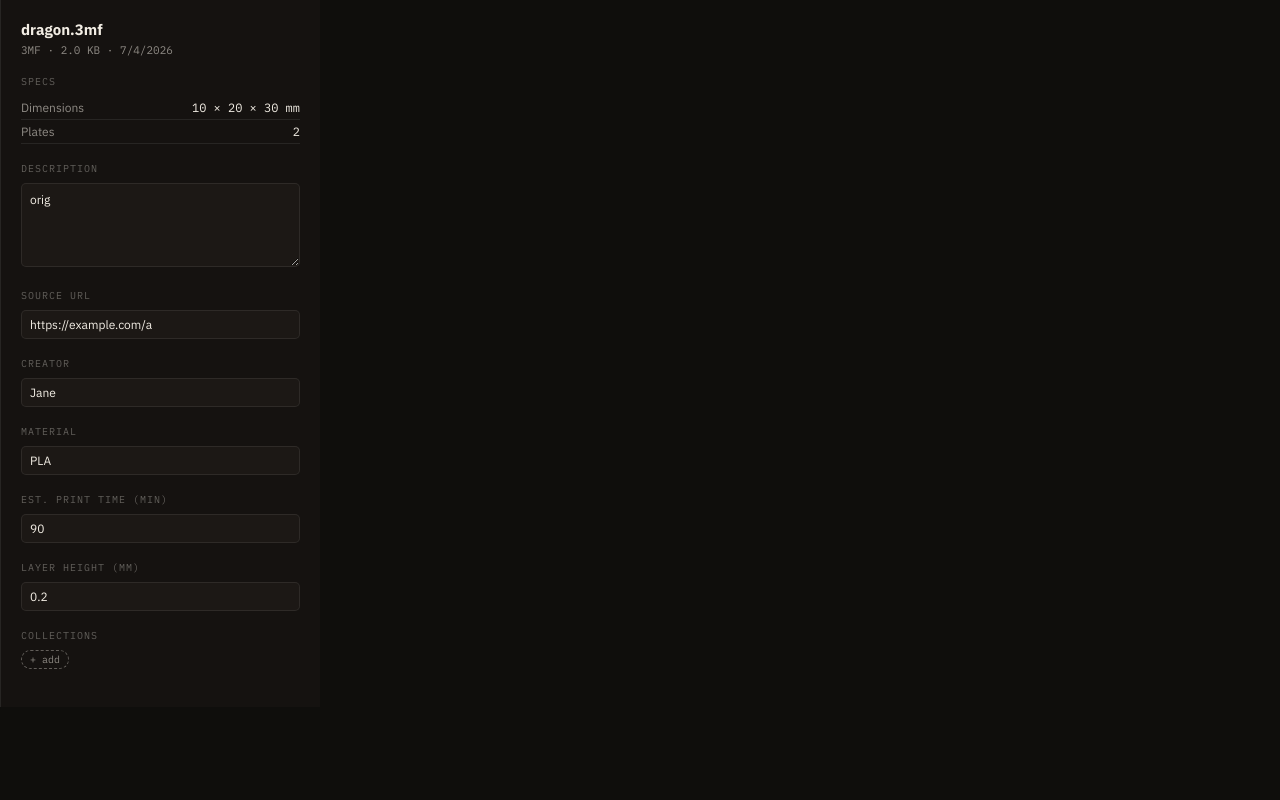
Test case: DetailInfoPanel › opens the assign-folders modal from the + add pill
The width and height of the screenshot is (1280, 800).
Click the button "+ add": click(45, 660) [21,650,69,669]
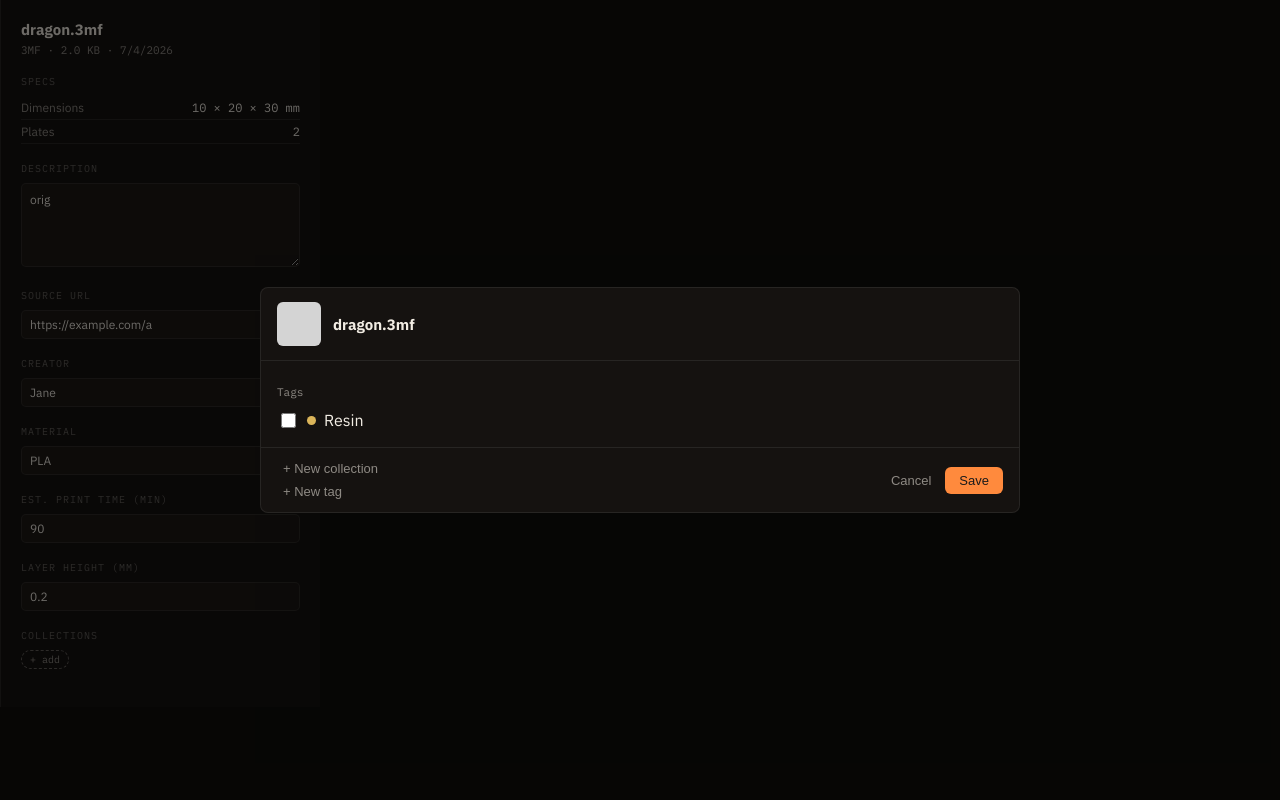
Result: the dialog is shown at [260,287,1020,513]
